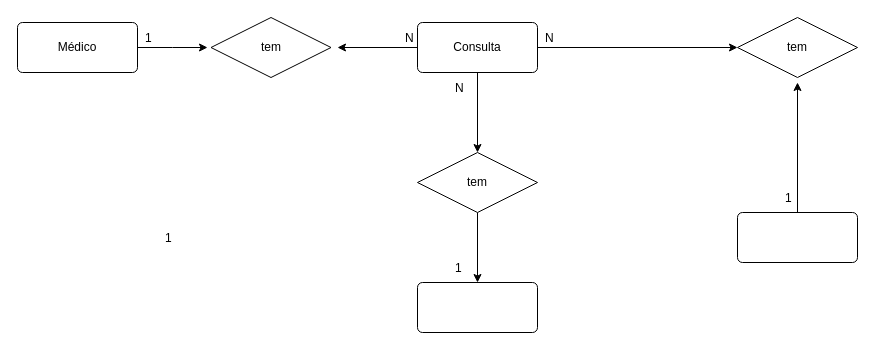
Image size: 875x350. Some labels were removed from this diagram. Here are the shapes that lost their labels. From the top down, the centre of each, then its label:
At (797,237): "Clinica".
At (477,307): "Paciente".
